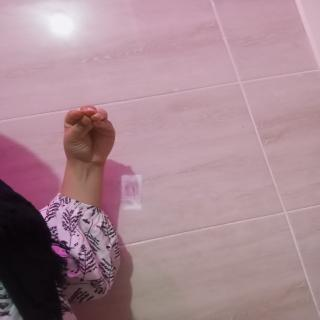HA: (39, 94, 129, 178)
